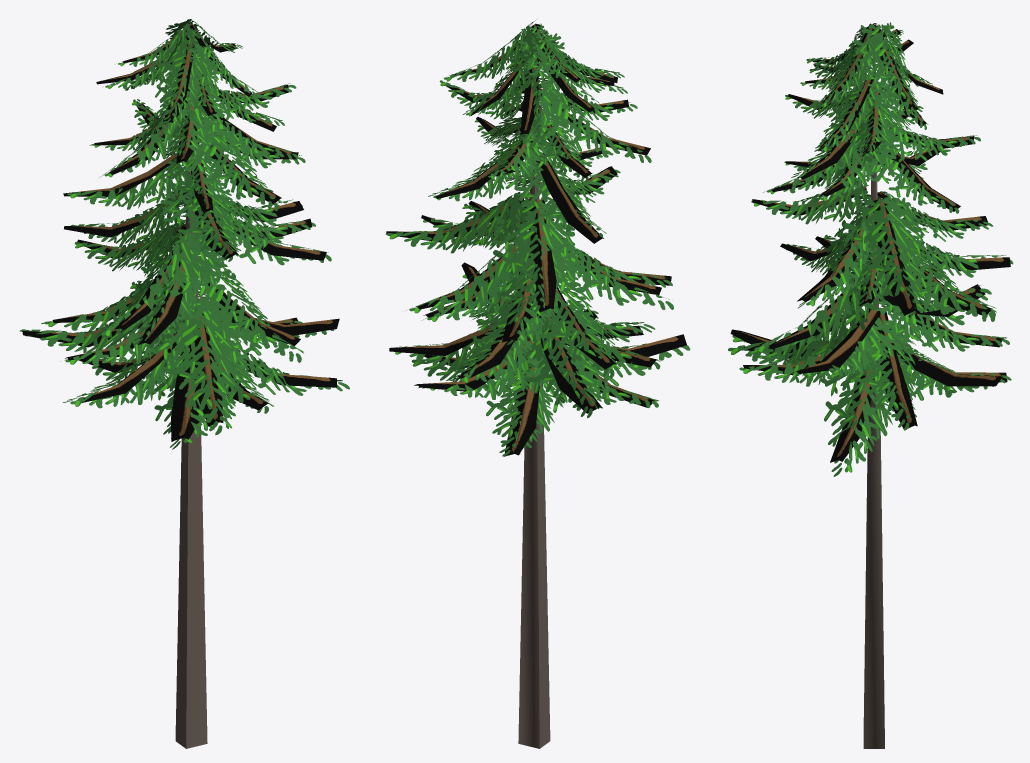
The model's file is tallTreeCTD.fbx.
3 renders of one model, left to right at view 1: azimuth 30°, elevation 25°; view 2: azimuth 150°, elevation 25°; view 3: azimuth 270°, elevation 25°, orthographic.
Visible parts, largest first — view 1: leaves.071, branch.071, trunk; view 2: leaves.071, branch.071, trunk; view 3: leaves.071, branch.071, trunk.
Part boxes in pixels (x1,y1,x2,y2): leaves.071: [20, 19, 349, 449]; branch.071: [22, 23, 339, 441]; trunk: [175, 33, 207, 748]; leaves.071: [385, 19, 690, 456]; branch.071: [386, 23, 686, 456]; trunk: [518, 33, 550, 748]; leaves.071: [728, 22, 1013, 476]; branch.071: [730, 23, 1010, 462]; trunk: [863, 34, 884, 748].
Bounding box in the file's own units: 1404 × 3543 × 1297.
